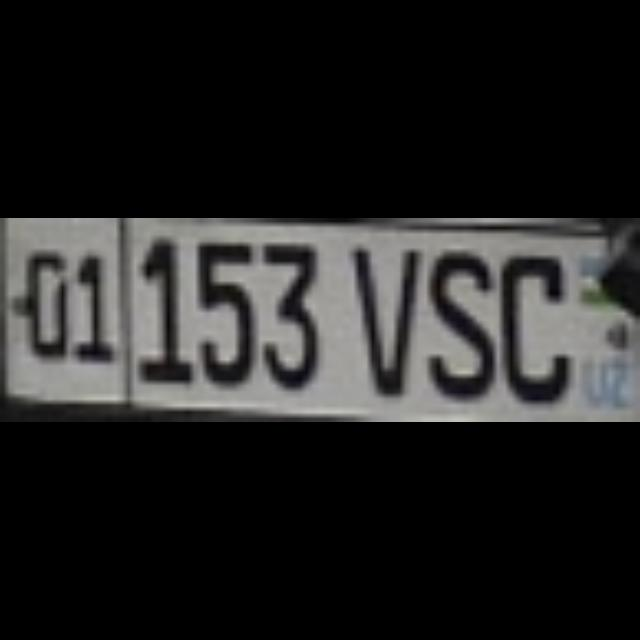0: (20, 244, 60, 350)
1: (132, 232, 184, 376), (66, 244, 112, 356)
3: (258, 231, 310, 383)
5: (192, 232, 244, 376)
C: (494, 244, 568, 396)
S: (422, 238, 488, 390)
V: (350, 238, 416, 390)
